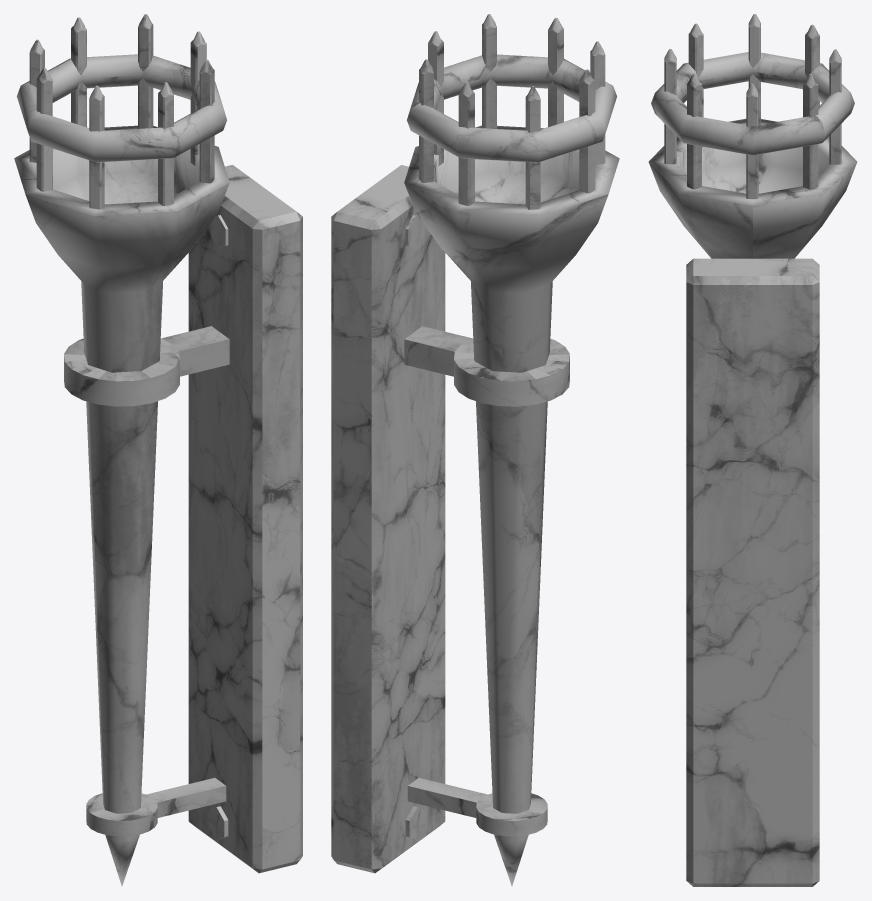
The model's file is torch.obj.
3 renders of one model, left to right at view 1: azimuth 30°, elevation 25°; view 2: azimuth 150°, elevation 25°; view 3: azimuth 270°, elevation 25°, orthographic. The views are drawn at different scales.
Visible parts, largest first — view 1: pTorus2; view 2: pTorus2; view 3: pTorus2.
Boxes of the visible parts, x1,y1,x2,y2 form: pTorus2: [14, 14, 302, 886]; pTorus2: [331, 14, 619, 886]; pTorus2: [648, 14, 857, 886].
Size of the model in its own units: 2.99 by 9.75 by 2.36.
